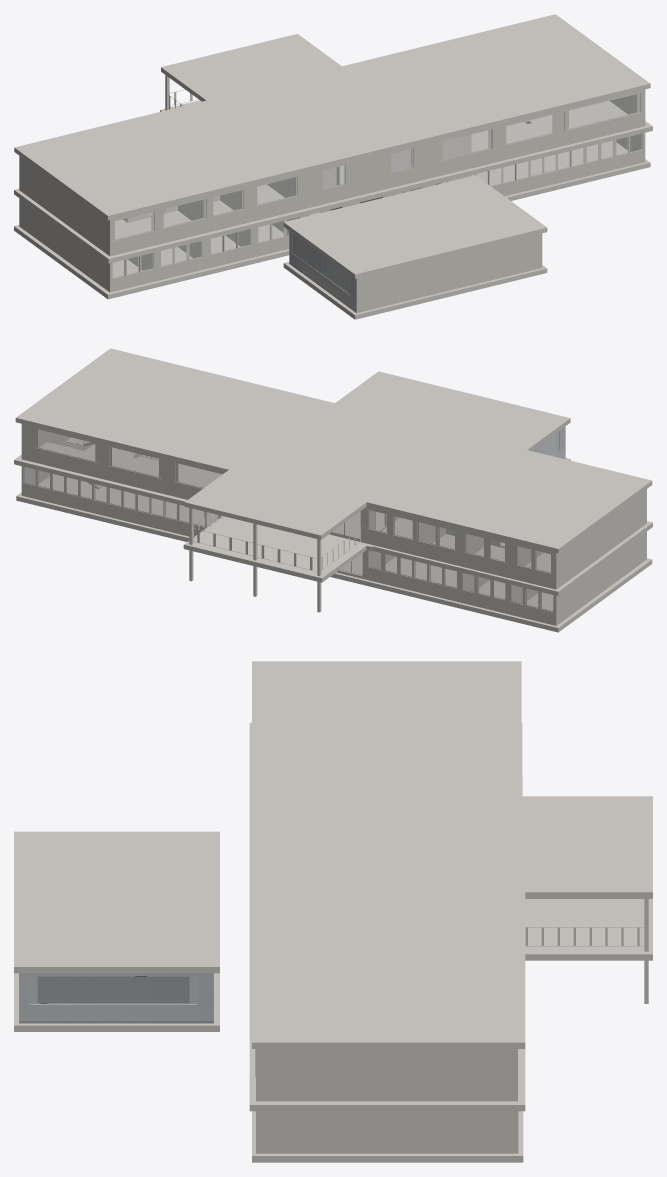
Rendered from auditorium_walk.glb.
The picture shows the model from 3 angles, top to bottom: view 1: azimuth 30°, elevation 25°; view 2: azimuth 150°, elevation 25°; view 3: azimuth 270°, elevation 25°; orthographic projection. The views are drawn at different scales.
Visible parts, largest first — view 1: BEYOND_L2_SLAB, BEYOND_L1_WALL, BEYOND_L0_WALL, UPPER_in_zone, BEYOND_L1_SLAB, BEYOND_L0_SLAB, BEYOND_L1_GLASS, BEYOND_L0_GLASS, BEYOND_L1_FRAME, BEYOND_L0_FRAME, BEYOND_L1_OTHER, BAKE_furn_b (+2 smaller); view 2: BEYOND_L2_SLAB, BEYOND_L1_WALL, BEYOND_L1_SLAB, BEYOND_L0_WALL, BEYOND_L0_SLAB, UPPER_in_zone, BEYOND_L1_GLASS, BEYOND_L0_GLASS, BEYOND_L1_FRAME, BEYOND_L0_FRAME, BEYOND_L1_OTHER, BEYOND_L1_STAIR (+3 smaller); view 3: BEYOND_L2_SLAB, UPPER_in_zone, BEYOND_L1_WALL, BEYOND_L1_SLAB, BEYOND_L0_WALL, BEYOND_L0_SLAB, BAKE_furn_b, GLASS_zone, BAKE_wall_north, BAKE_wall_south.
Boxes of the visible parts, x1=… form: BEYOND_L2_SLAB: x1=14, y1=14, x2=650, y2=278; BEYOND_L1_WALL: x1=19, y1=89, x2=645, y2=256; BEYOND_L0_WALL: x1=19, y1=133, x2=645, y2=312; UPPER_in_zone: x1=289, y1=177, x2=541, y2=272; BEYOND_L1_SLAB: x1=14, y1=100, x2=652, y2=263; BEYOND_L0_SLAB: x1=14, y1=122, x2=650, y2=319; BEYOND_L1_GLASS: x1=115, y1=94, x2=636, y2=238; BEYOND_L0_GLASS: x1=113, y1=134, x2=641, y2=277; BEYOND_L1_FRAME: x1=113, y1=93, x2=640, y2=240; BEYOND_L0_FRAME: x1=112, y1=134, x2=642, y2=278; BEYOND_L1_OTHER: x1=112, y1=89, x2=641, y2=240; BAKE_furn_b: x1=293, y1=234, x2=348, y2=291; BEYOND_L2_SLAB: x1=15, y1=348, x2=652, y2=553; BEYOND_L1_WALL: x1=21, y1=424, x2=646, y2=589; BEYOND_L1_SLAB: x1=14, y1=442, x2=652, y2=596; BEYOND_L0_WALL: x1=21, y1=426, x2=646, y2=625; BEYOND_L0_SLAB: x1=16, y1=444, x2=652, y2=632; UPPER_in_zone: x1=338, y1=373, x2=565, y2=448; BEYOND_L1_GLASS: x1=38, y1=429, x2=550, y2=572; BEYOND_L0_GLASS: x1=24, y1=467, x2=552, y2=610; BEYOND_L1_FRAME: x1=34, y1=428, x2=551, y2=573; BEYOND_L0_FRAME: x1=23, y1=467, x2=553, y2=611; BEYOND_L1_OTHER: x1=34, y1=428, x2=551, y2=573; BEYOND_L1_STAIR: x1=136, y1=454, x2=500, y2=570; BEYOND_L2_SLAB: x1=14, y1=661, x2=652, y2=1048; UPPER_in_zone: x1=19, y1=834, x2=213, y2=964; BEYOND_L1_WALL: x1=256, y1=1049, x2=517, y2=1101; BEYOND_L1_SLAB: x1=249, y1=722, x2=652, y2=1111; BEYOND_L0_WALL: x1=19, y1=973, x2=518, y2=1153; BEYOND_L0_SLAB: x1=14, y1=775, x2=523, y2=1162; BAKE_furn_b: x1=37, y1=976, x2=189, y2=1002; GLASS_zone: x1=38, y1=977, x2=188, y2=1002; BAKE_wall_north: x1=29, y1=973, x2=213, y2=1023; BAKE_wall_south: x1=19, y1=973, x2=197, y2=1023.
Bounding box in the file's own units: 38.22 × 5.6 × 27.
11 materials, 8 textured.
